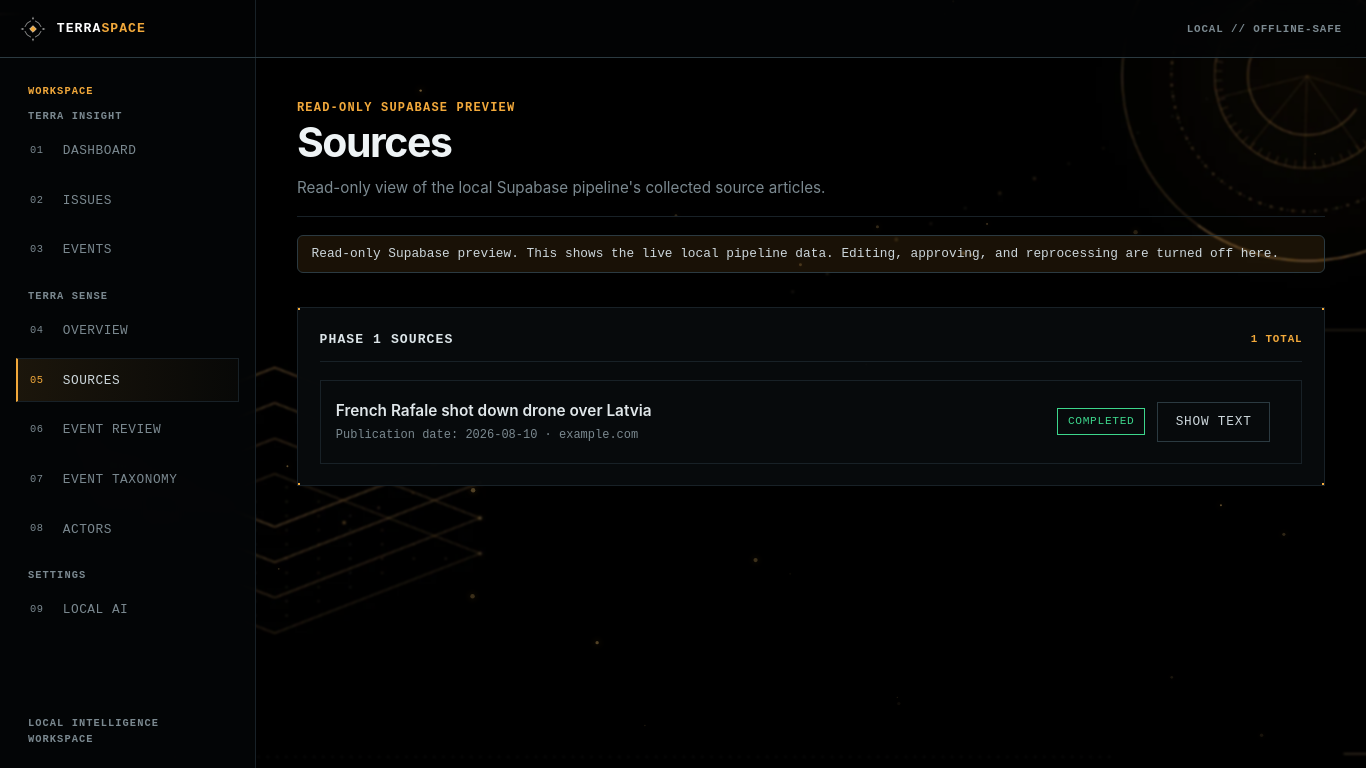
Scenario: DocumentsPage (Supabase read-only Sources) › shows cleaned text on demand without any edit or process control
The image size is (1366, 768).
Expected: the text "French Rafale shot down drone over Latvia" is shown, x1=336 y1=399 x2=652 y2=422
Click the button "Show text": click(1214, 422) x1=1157 y1=402 x2=1270 y2=442
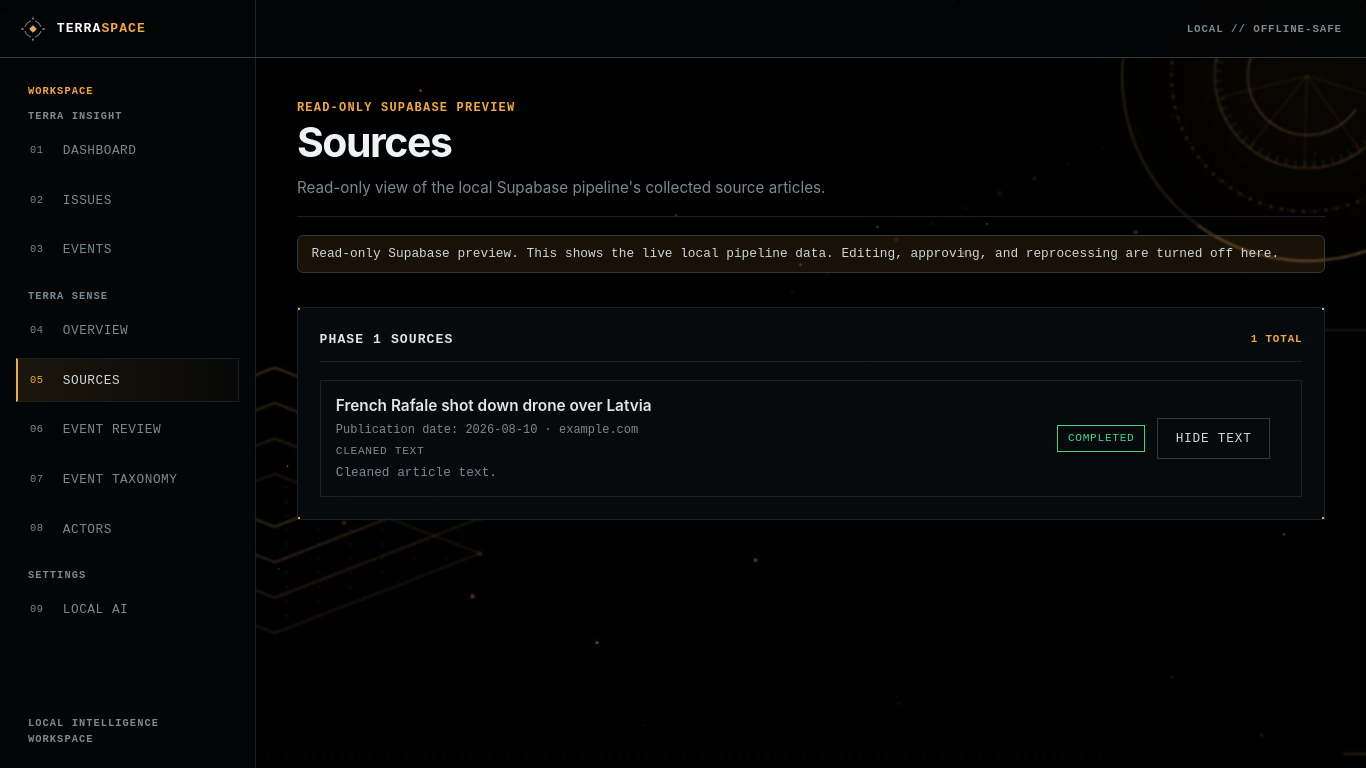
Result: the text "Cleaned article text." is shown at x1=336 y1=465 x2=497 y2=480
